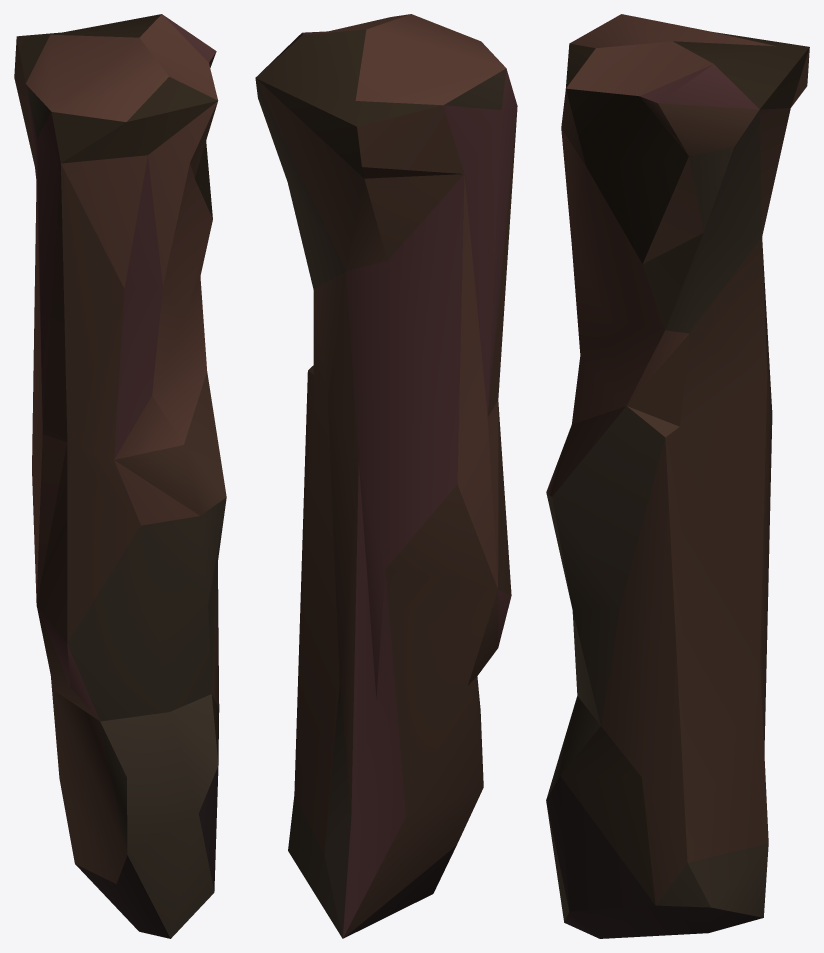
File: bg_wasteland_ruin_2_lod2.glb
3 views of the same model, side by side, from view 1: azimuth 30°, elevation 25°; view 2: azimuth 150°, elevation 25°; view 3: azimuth 270°, elevation 25° (orthographic). The views are drawn at different scales.
Visible parts, largest first — view 1: body; view 2: body; view 3: body.
Part boxes in pixels (x1,y1,x2,y2): body: [14, 14, 226, 938]; body: [255, 14, 517, 938]; body: [546, 14, 809, 938].
Bounding box in the file's own units: 0.6839 × 2.91 × 0.7756.
